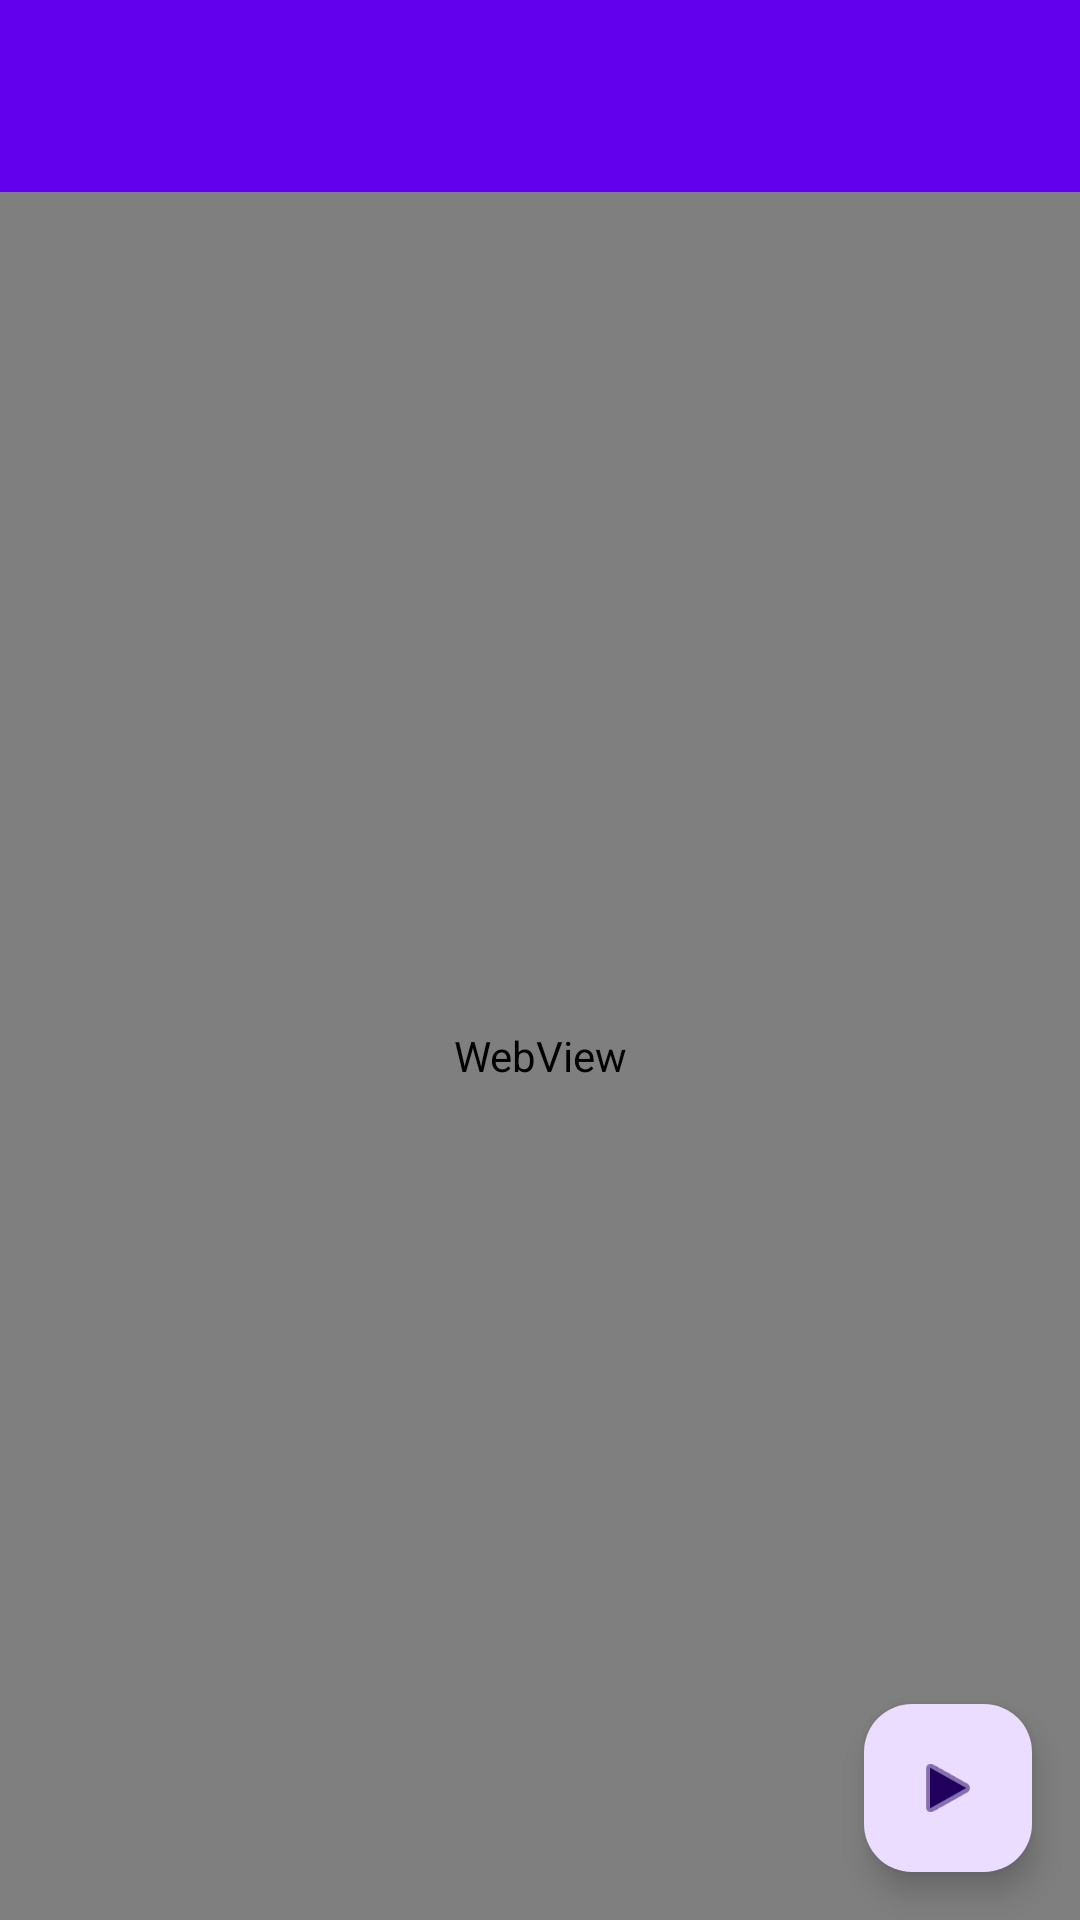

Point at icon controls on the screen. Image size 1080x1920, points as (x=x, y=y).
Play: (x=948, y=1788)
